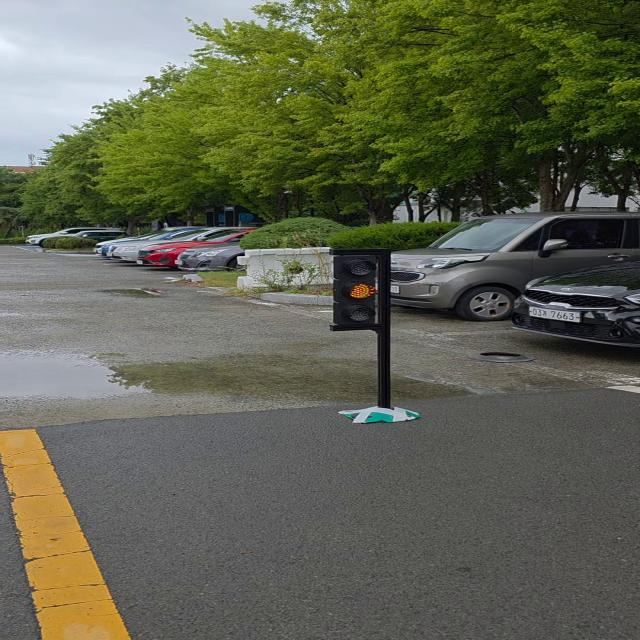yellow: (336, 254, 390, 328)
